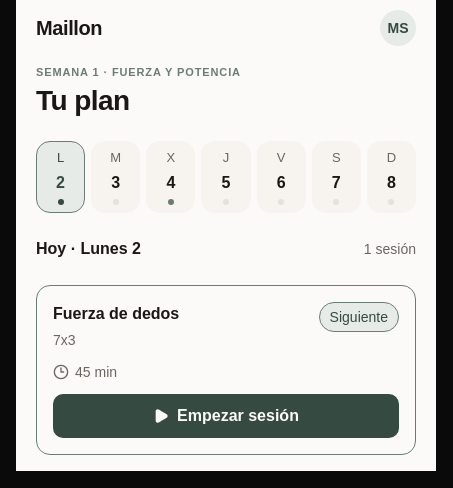
Test case: plan screen › shows the Maillon week and starts the next session by UUID
This screenshot has width=453, height=488.
Expected: the heading "Tu plan" is shown, left=36, top=84, right=130, bottom=116
Expected: the text "Semana 1 · Fuerza y potencia" is shown, left=36, top=66, right=241, bottom=78
Click the button "Empezar sesión".
click(226, 416)  # box left=53, top=394, right=399, bottom=438
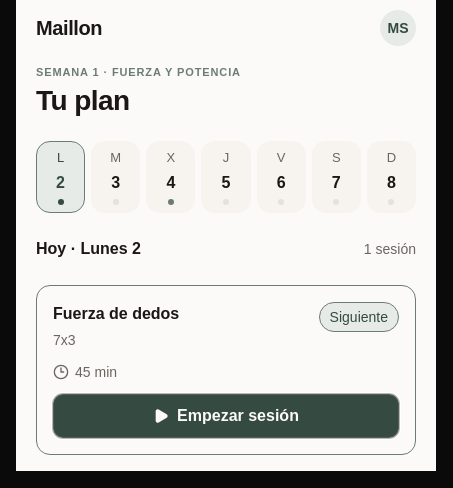
Click the button "M 3".
click(116, 177)  # box left=91, top=141, right=140, bottom=213
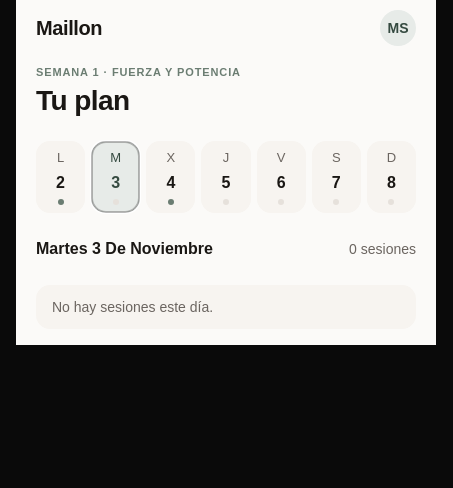
Now the text "No hay sesiones este día." is shown, box left=36, top=285, right=416, bottom=329
